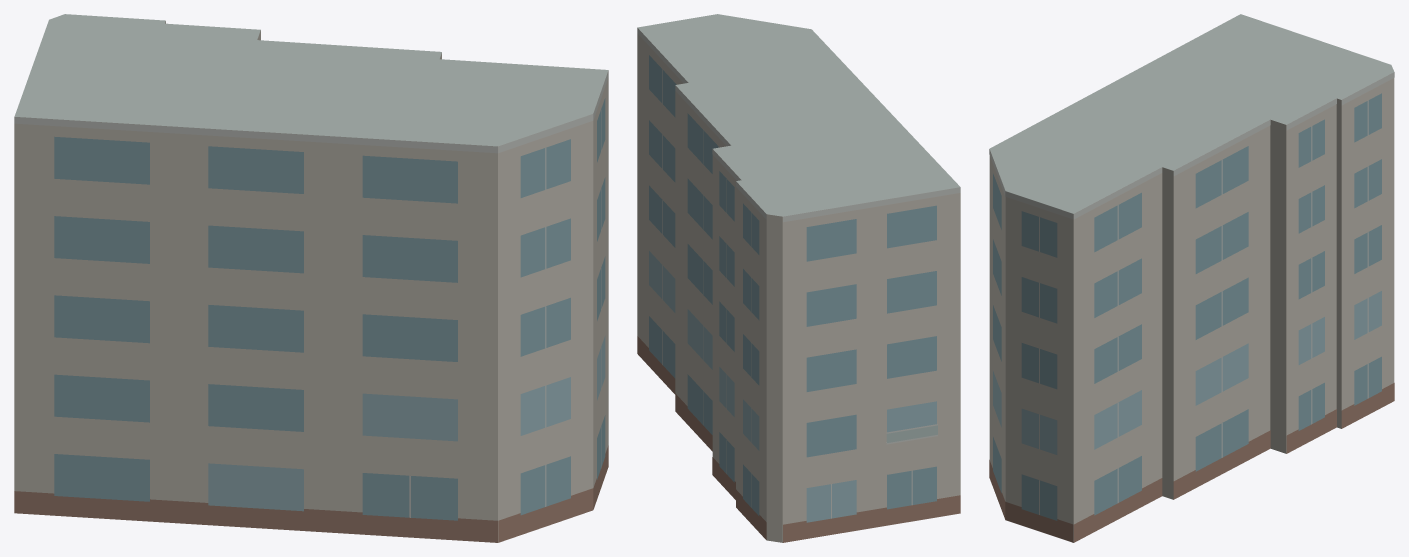
File: survey-upis-32945701.glb
3 views of the same model, side by side, from view 1: azimuth 30°, elevation 25°; view 2: azimuth 150°, elevation 25°; view 3: azimuth 270°, elevation 25° (orthographic). The views are drawn at different scales.
Visible parts, largest first — view 1: survey-upis-32945701.tmp; view 2: survey-upis-32945701.tmp; view 3: survey-upis-32945701.tmp.
Part boxes in pixels (left/top/right/bottom): survey-upis-32945701.tmp: left=14, top=14, right=608, bottom=542; survey-upis-32945701.tmp: left=637, top=14, right=960, bottom=542; survey-upis-32945701.tmp: left=989, top=14, right=1394, bottom=542.
Size of the model in its own units: 18.31 by 14.05 by 15.68.
